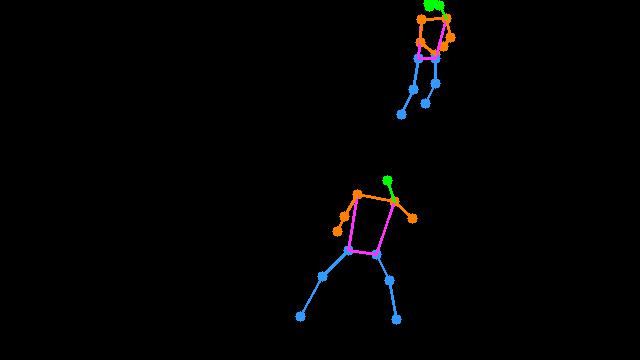normal: (284, 153, 447, 345), (386, 1, 468, 133)
